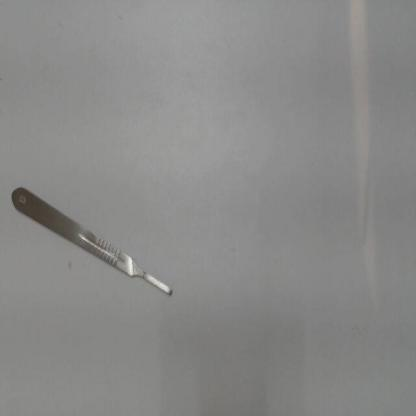No.4 BP Handle: (11, 171, 180, 303)
